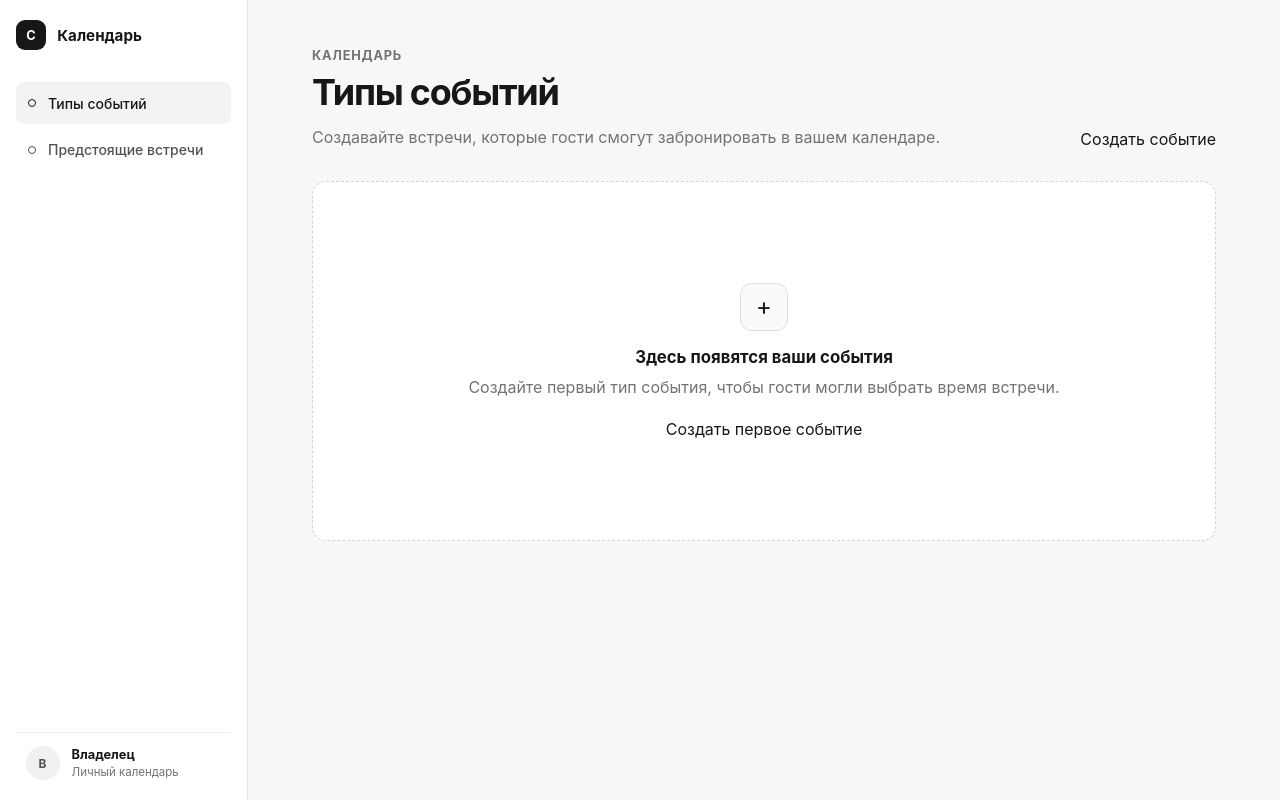
Test: навигация владельца › переходит к предстоящим встречам из меню
The width and height of the screenshot is (1280, 800).
Click the link "Предстоящие встречи": [116, 150] box x1=28 y1=141 x2=203 y2=158
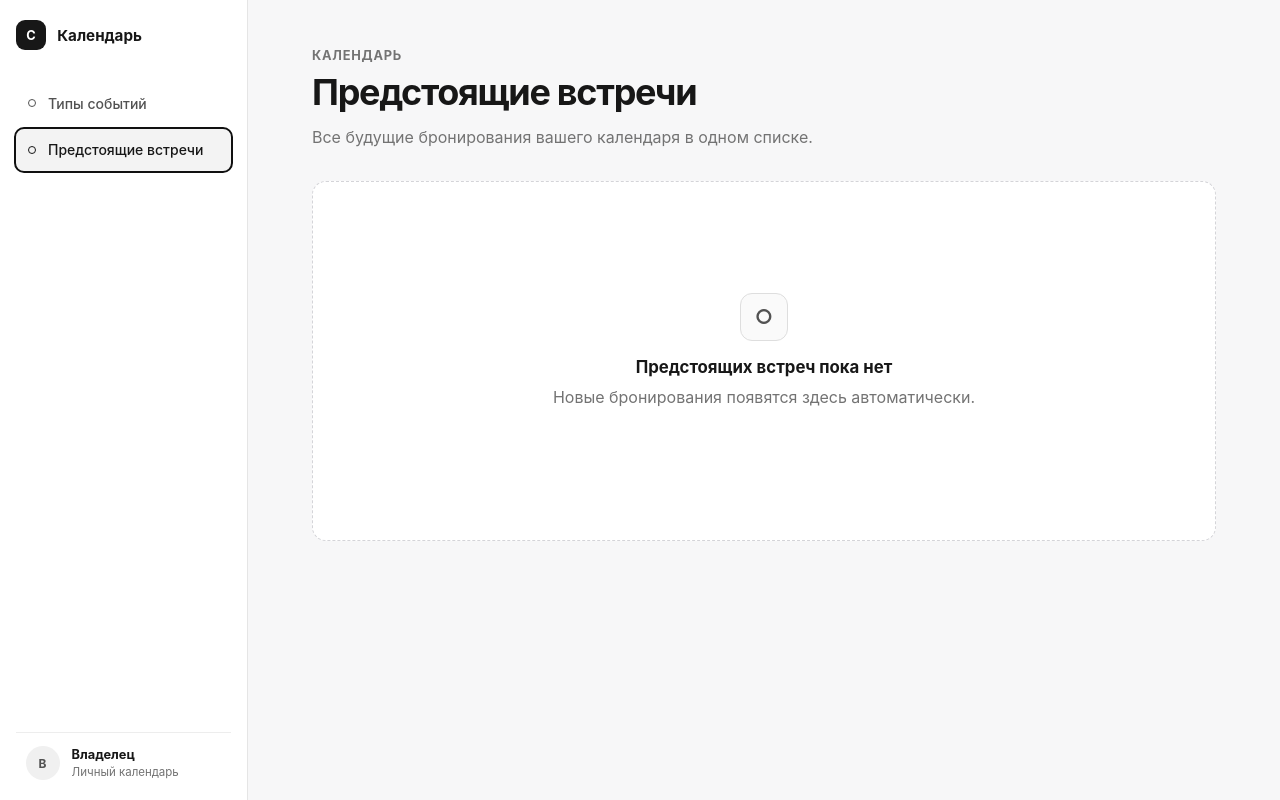
Expected: the heading "Предстоящие встречи" is shown, x1=312 y1=70 x2=696 y2=114
